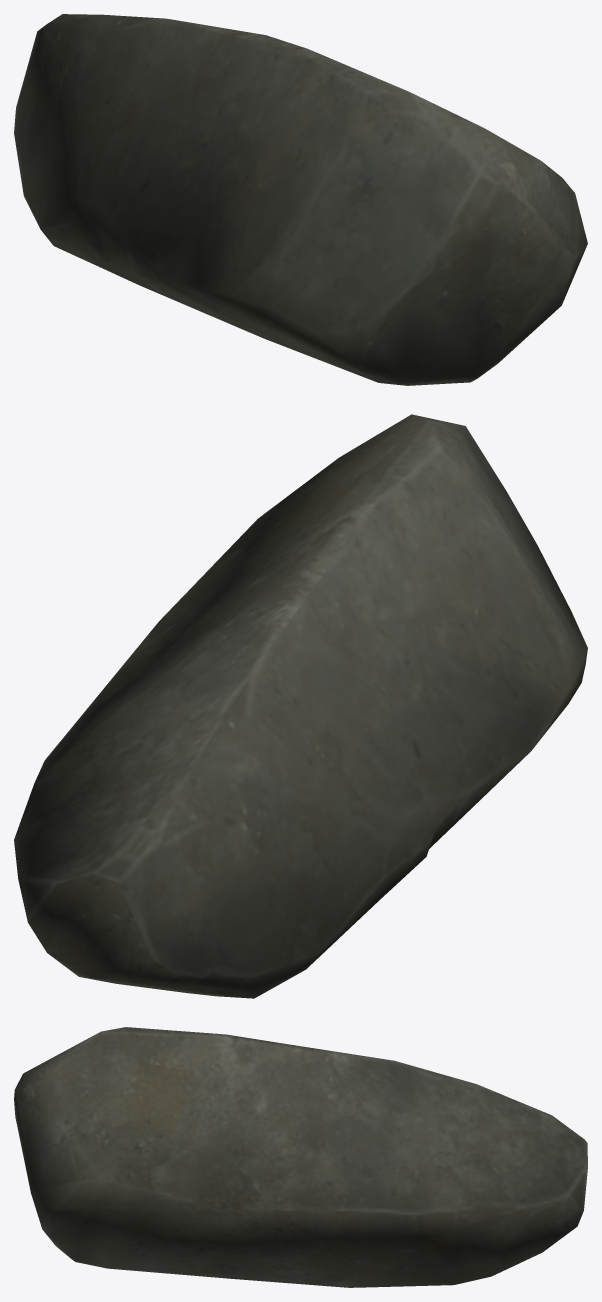
File: Rock6.fbx
3 renders of one model, top to bottom at view 1: azimuth 30°, elevation 25°; view 2: azimuth 150°, elevation 25°; view 3: azimuth 270°, elevation 25°, orthographic. The views are drawn at different scales.
Parts seen in each view (by area): view 1: RockWall_Rock1_Retopo.002_Plane.022; view 2: RockWall_Rock1_Retopo.002_Plane.022; view 3: RockWall_Rock1_Retopo.002_Plane.022.
Boxes of the visible parts, box(x1,y1,x2,y2) form: RockWall_Rock1_Retopo.002_Plane.022: box(14, 14, 587, 385); RockWall_Rock1_Retopo.002_Plane.022: box(14, 414, 587, 998); RockWall_Rock1_Retopo.002_Plane.022: box(14, 1027, 587, 1287).
Bounding box in the file's own units: 229 × 225 × 471.
